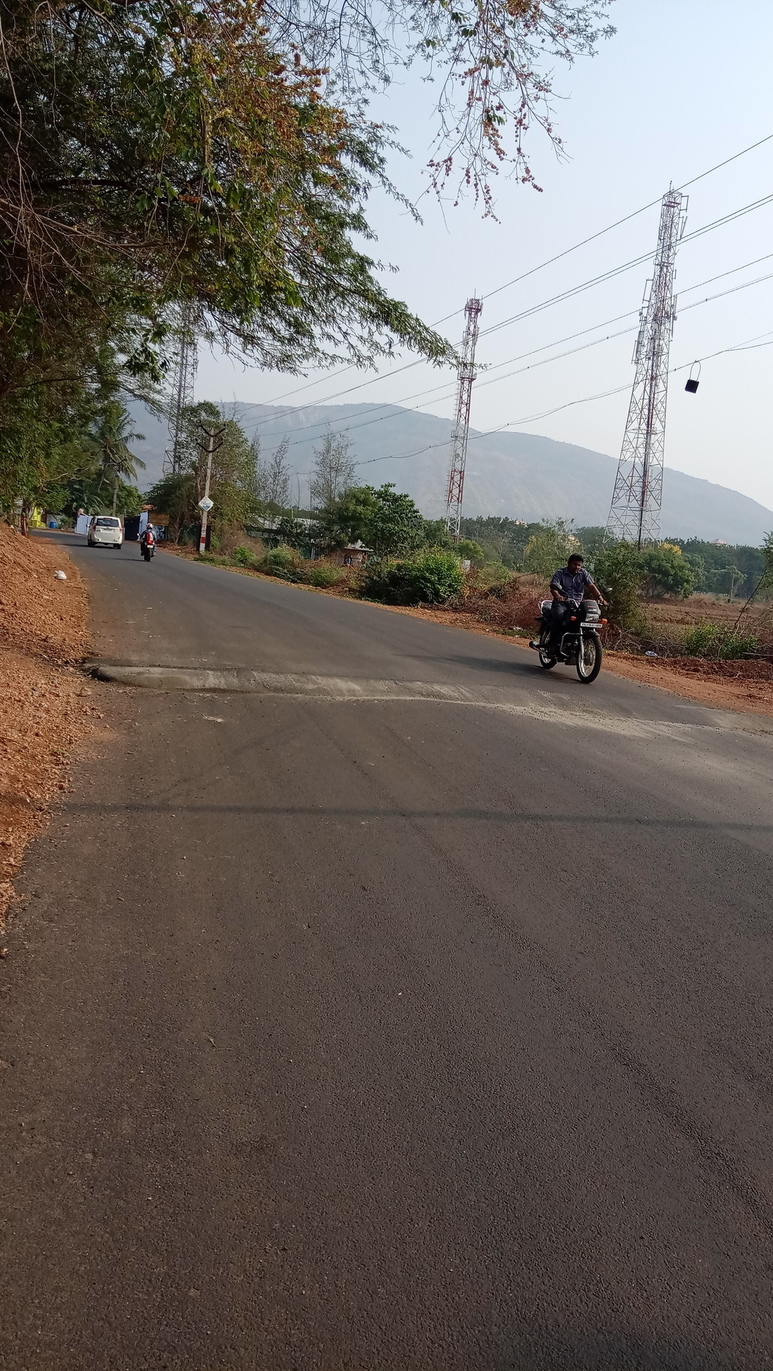bump: (79, 660, 760, 730)
